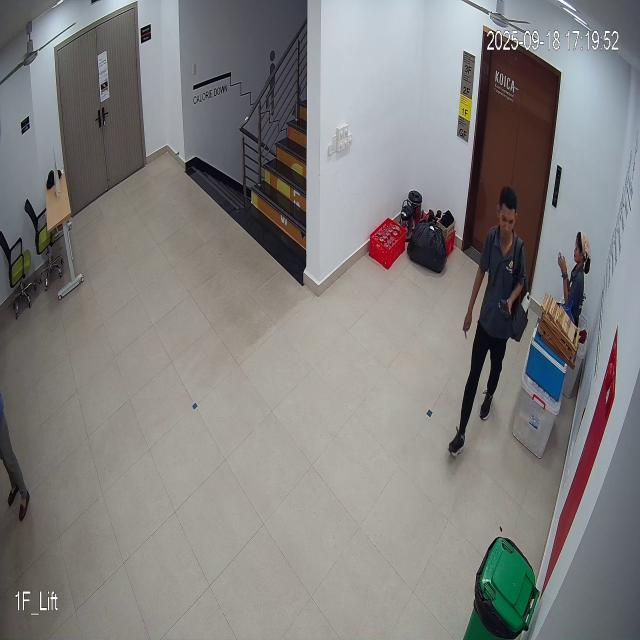face: (494, 181, 520, 246)
